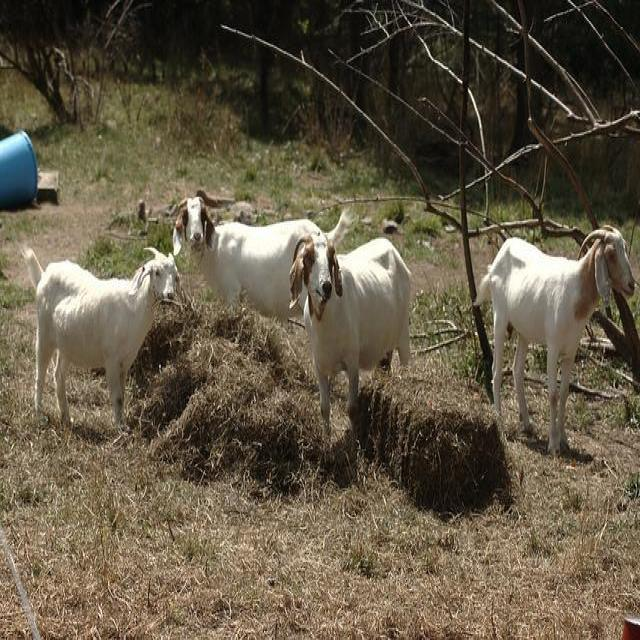Sheep: (475, 224, 639, 458), (17, 245, 183, 433), (287, 231, 416, 448), (171, 195, 352, 323)
